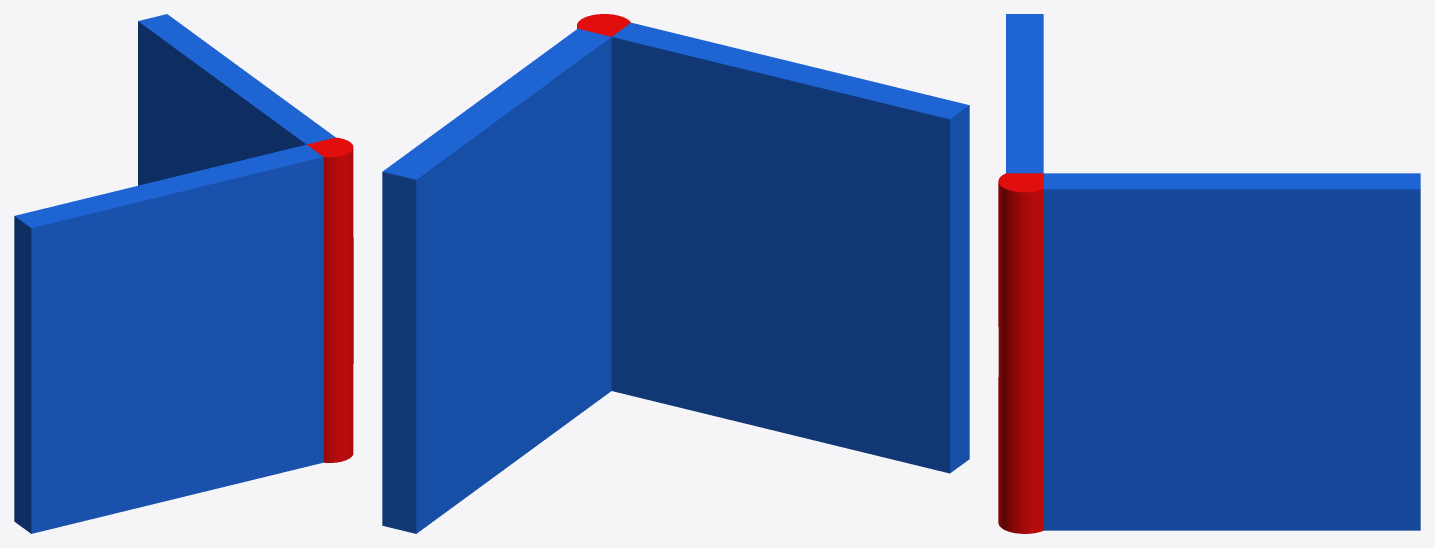
Rendered from corner joint v1.fbx.
3 renders of one model, left to right at view 1: azimuth 30°, elevation 25°; view 2: azimuth 150°, elevation 25°; view 3: azimuth 270°, elevation 25°, orthographic. The views are drawn at different scales.
Visible parts, largest first — view 1: Body2, Body1, Body3; view 2: Body2, Body1, Body3; view 3: Body1, Body3, Body2.
Boxes of the visible parts, box(x1,y1,x2,y2) form: Body2: box(14, 144, 323, 533); Body1: box(138, 14, 335, 185); Body3: box(307, 137, 353, 462); Body2: box(611, 22, 969, 473); Body1: box(382, 28, 611, 533); Body3: box(577, 14, 630, 36); Body1: box(1043, 173, 1420, 530); Body3: box(998, 173, 1043, 533); Body2: box(1006, 14, 1043, 173).
Size of the model in its own units: 285 by 254 by 285.
